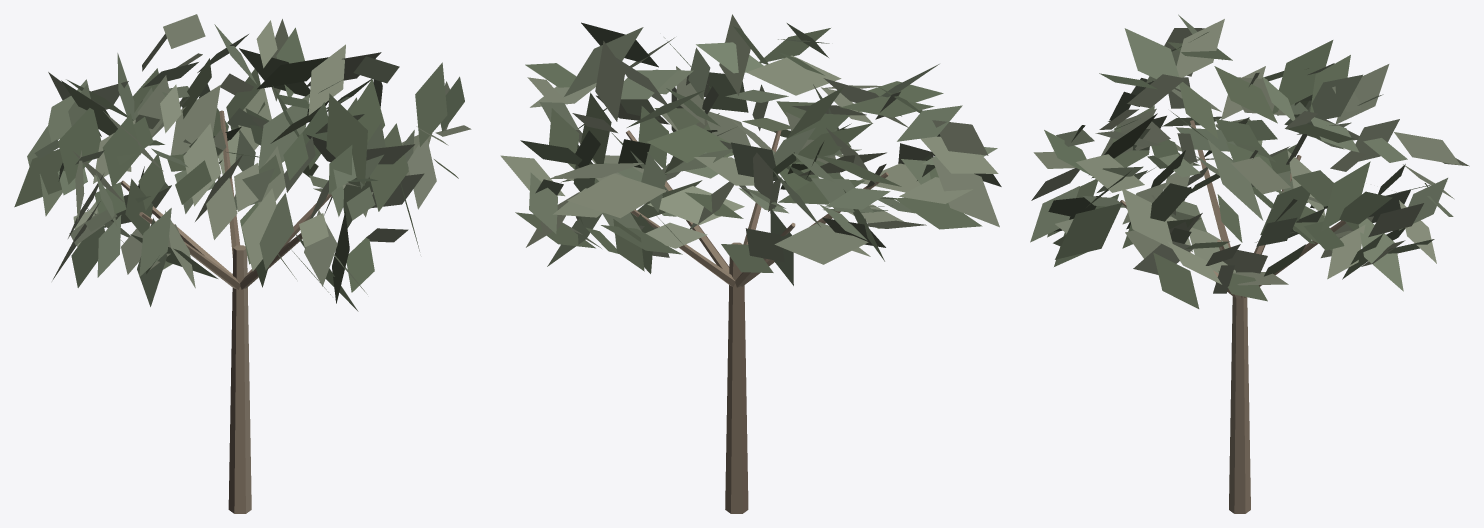
Rendered from tree_forest_c.gltf.
The picture shows the model from 3 angles, left to right: view 1: azimuth 30°, elevation 25°; view 2: azimuth 150°, elevation 25°; view 3: azimuth 270°, elevation 25°; orthographic projection. The views are drawn at different scales.
Parts seen in each view (by area): view 1: ForestC; view 2: ForestC; view 3: ForestC.
Boxes of the visible parts, box(x1,y1,x2,y2) form: ForestC: box(14, 14, 471, 513); ForestC: box(500, 14, 1001, 513); ForestC: box(1030, 14, 1469, 513).
Bounding box in the file's own units: 10.54 × 10.1 × 9.51.
